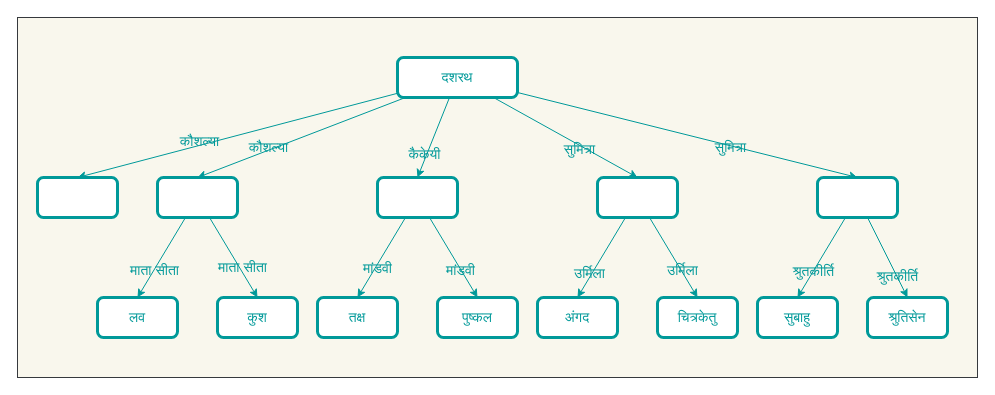
Some shapes in this 995 by 395 pixel diagram are drawn without their labels. Each missing label, with the centre of its shape:
भरत: point 417,197
लक्ष्मण: point 637,197
शत्रुघ्न: point 857,197
शांता: point 77,197
श्रीराम: point 197,197
